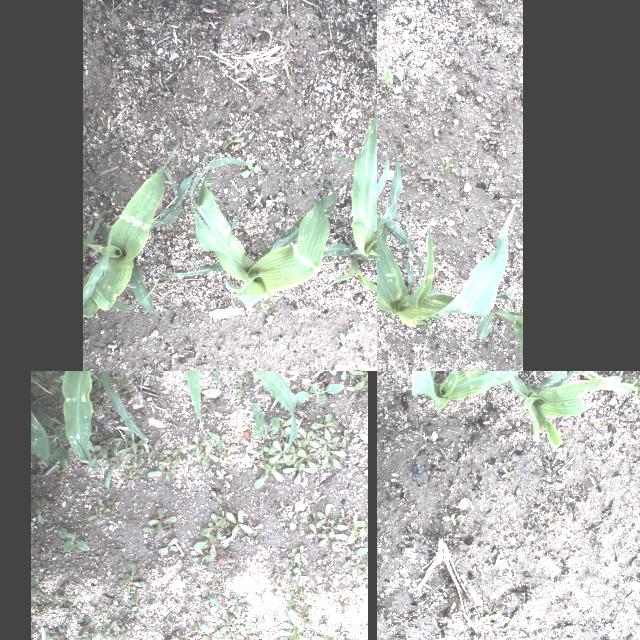crop: (160, 158, 336, 316), (377, 144, 517, 330), (84, 144, 210, 328), (312, 43, 377, 297), (461, 371, 624, 448), (32, 371, 148, 462), (187, 371, 297, 454), (395, 371, 539, 409), (478, 296, 522, 356), (568, 371, 640, 404), (82, 228, 110, 306), (31, 378, 54, 458), (83, 166, 119, 206), (84, 211, 102, 255)
weed: (36, 406, 70, 468), (292, 382, 344, 406), (54, 524, 88, 554), (252, 404, 282, 438), (282, 609, 310, 640), (148, 508, 176, 536), (311, 414, 339, 440), (224, 508, 252, 534), (202, 512, 226, 542), (282, 464, 316, 484), (289, 142, 313, 170), (117, 436, 149, 456), (336, 520, 360, 546), (116, 566, 140, 588), (298, 448, 318, 472), (272, 440, 292, 464), (210, 596, 230, 620), (254, 462, 272, 488), (93, 437, 115, 458), (31, 496, 47, 524), (324, 448, 346, 468), (193, 536, 215, 556), (220, 133, 244, 151), (438, 151, 456, 175), (394, 70, 412, 94), (240, 524, 264, 542), (266, 458, 284, 482), (319, 534, 346, 550), (129, 591, 145, 617), (310, 622, 333, 640), (240, 160, 260, 180), (478, 604, 498, 624), (188, 434, 206, 456), (126, 443, 140, 471), (148, 466, 175, 480), (96, 498, 114, 518), (300, 427, 318, 447), (200, 446, 218, 466), (272, 420, 294, 436), (64, 594, 80, 616), (296, 562, 310, 586), (155, 611, 173, 629), (377, 68, 393, 88), (208, 432, 228, 448), (420, 171, 442, 185), (317, 504, 331, 526), (236, 623, 253, 640), (321, 439, 339, 455), (284, 446, 302, 462), (88, 450, 104, 468), (78, 620, 96, 636), (334, 600, 354, 614), (235, 371, 260, 382), (354, 371, 367, 392), (157, 540, 179, 552), (442, 514, 464, 526), (88, 506, 104, 522), (298, 612, 314, 628), (107, 496, 121, 514), (191, 612, 203, 632), (235, 379, 247, 399), (296, 545, 308, 565), (216, 471, 230, 487), (277, 500, 291, 516), (334, 371, 362, 379), (272, 458, 286, 474), (230, 598, 246, 612), (220, 446, 230, 468), (120, 464, 142, 474), (111, 448, 122, 468), (103, 622, 115, 640), (336, 625, 350, 640), (116, 371, 127, 390), (210, 491, 226, 504), (340, 428, 350, 448), (158, 459, 180, 468), (310, 524, 324, 538), (327, 520, 341, 534), (341, 332, 357, 344), (94, 606, 110, 618), (201, 624, 213, 640), (348, 559, 364, 571), (502, 467, 514, 483), (461, 168, 474, 182), (125, 411, 138, 425), (347, 570, 358, 586), (127, 474, 139, 488), (354, 542, 368, 554), (30, 634, 57, 640), (149, 441, 159, 457), (90, 395, 100, 411), (160, 635, 189, 640), (191, 556, 215, 562), (352, 430, 364, 442), (206, 461, 216, 475), (318, 615, 332, 625), (224, 624, 234, 638), (274, 569, 284, 583), (116, 625, 125, 640), (162, 448, 184, 454), (57, 626, 66, 640), (311, 371, 336, 376), (318, 576, 328, 588), (358, 578, 368, 590), (118, 434, 128, 446), (58, 596, 72, 604), (342, 385, 356, 393), (360, 624, 368, 638), (282, 557, 296, 565), (252, 454, 258, 472), (36, 547, 46, 557), (128, 378, 138, 388), (126, 624, 136, 634), (288, 514, 298, 524), (31, 586, 37, 602), (278, 631, 294, 637), (302, 512, 310, 524), (230, 438, 238, 449), (132, 155, 146, 161), (362, 520, 368, 534), (360, 452, 368, 462), (86, 632, 96, 640), (454, 52, 458, 70), (476, 170, 484, 178), (146, 564, 150, 580), (360, 434, 368, 442), (414, 525, 422, 533), (31, 606, 39, 612), (282, 528, 288, 536), (601, 474, 607, 481), (372, 14, 377, 22), (567, 470, 573, 476), (494, 576, 498, 584), (351, 488, 357, 492), (146, 500, 150, 504)
